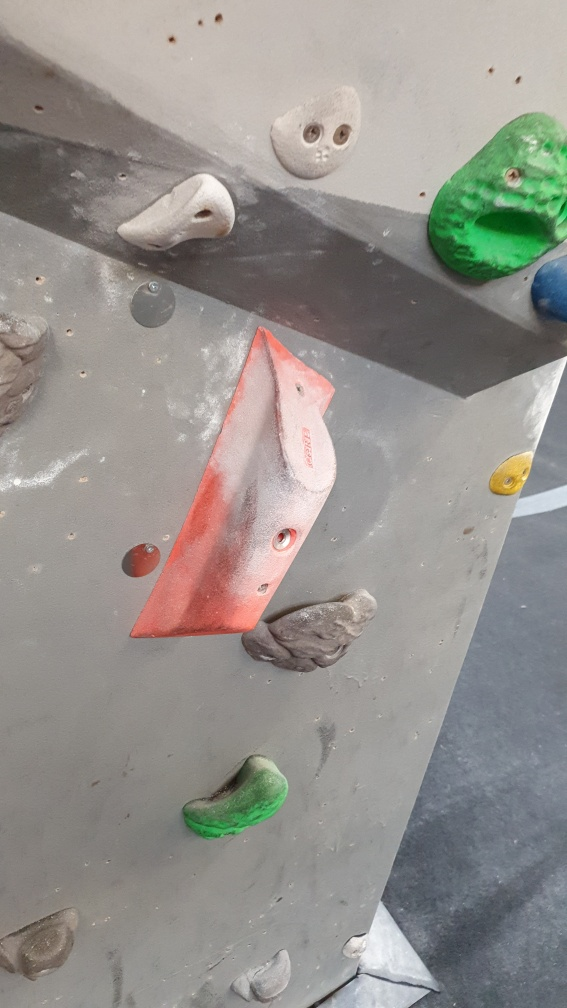Hand Start: (128, 278, 180, 330), (119, 541, 162, 581)
Jug: (241, 593, 381, 673), (172, 753, 292, 842)
Pinch: (127, 327, 341, 648)
